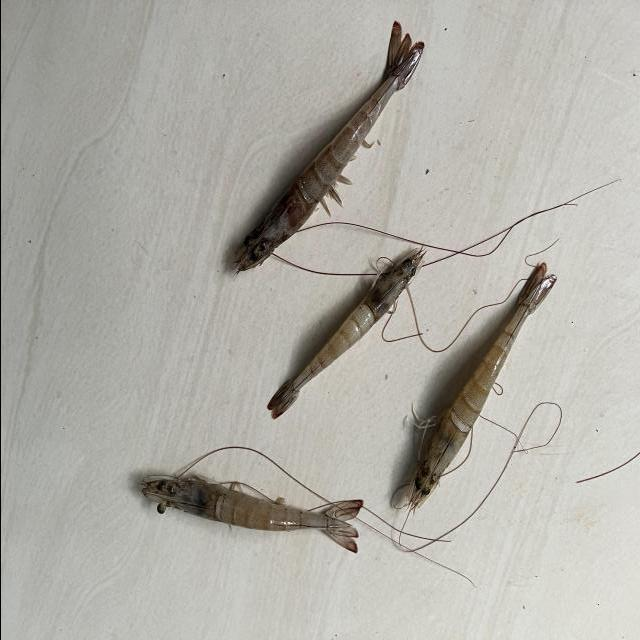shrimp: (233, 20, 424, 271), (406, 262, 556, 510), (267, 249, 424, 419), (140, 476, 362, 553)
